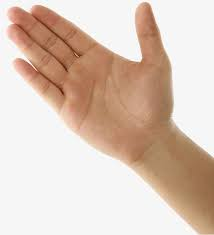palm: (73, 52, 158, 156)
